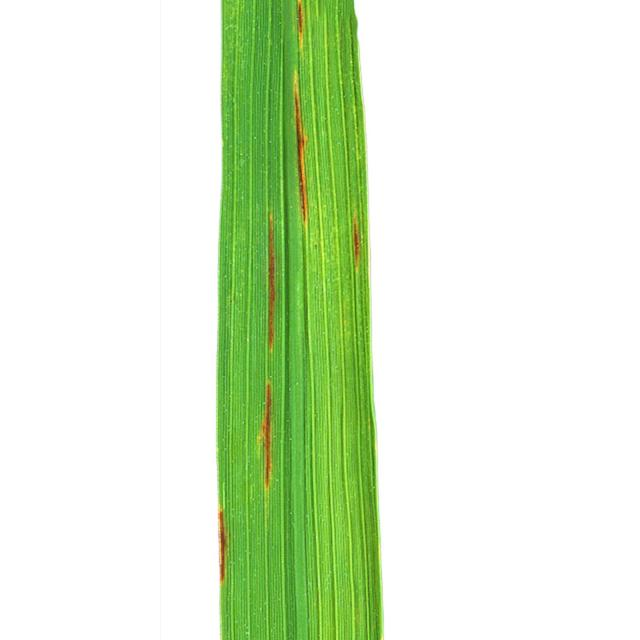Narrow brown: (166, 0, 412, 640)
